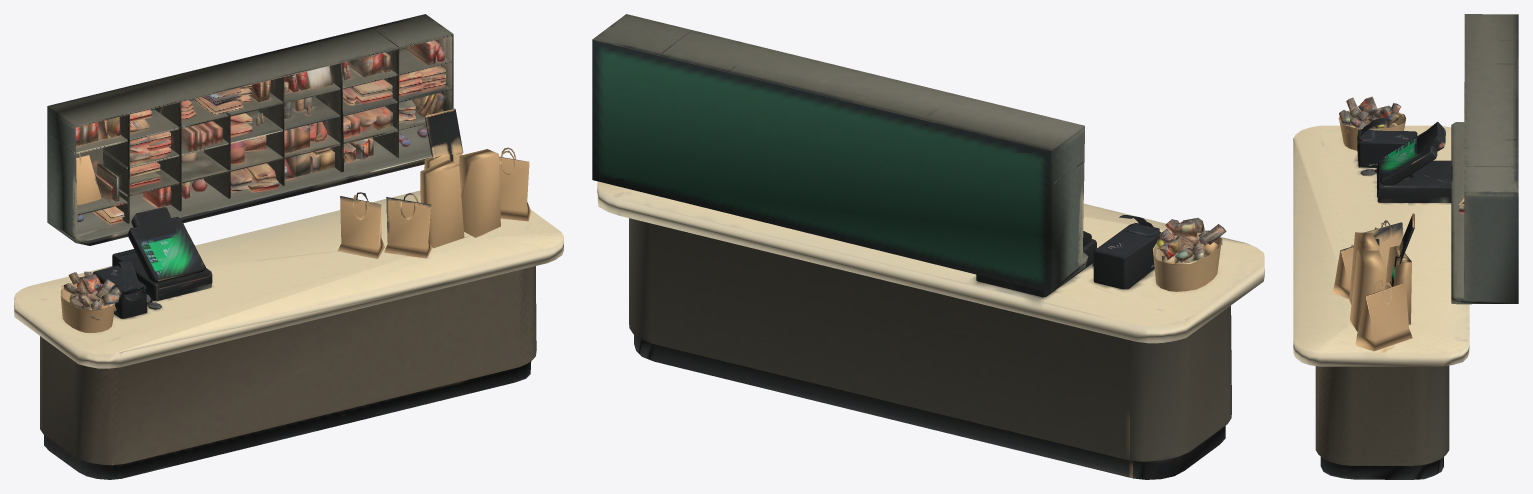
File: interior-checkout-counter.glb
The picture shows the model from 3 angles, left to right: view 1: azimuth 30°, elevation 25°; view 2: azimuth 150°, elevation 25°; view 3: azimuth 270°, elevation 25°; orthographic projection. The views are drawn at different scales.
Size of the model in its own units: 0.9575 by 0.5522 by 0.4014.
Materials: 1 (1 with a texture image).
